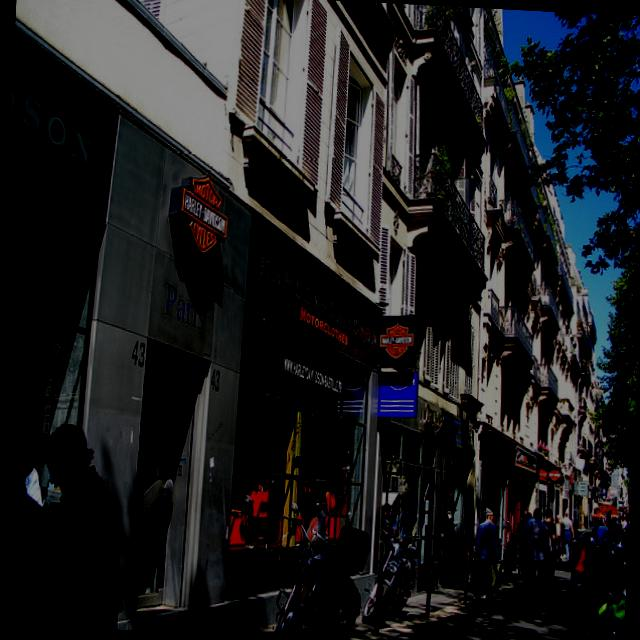Vehicle: (273, 503, 365, 640), (363, 526, 423, 622), (583, 562, 627, 640), (498, 540, 518, 578)
